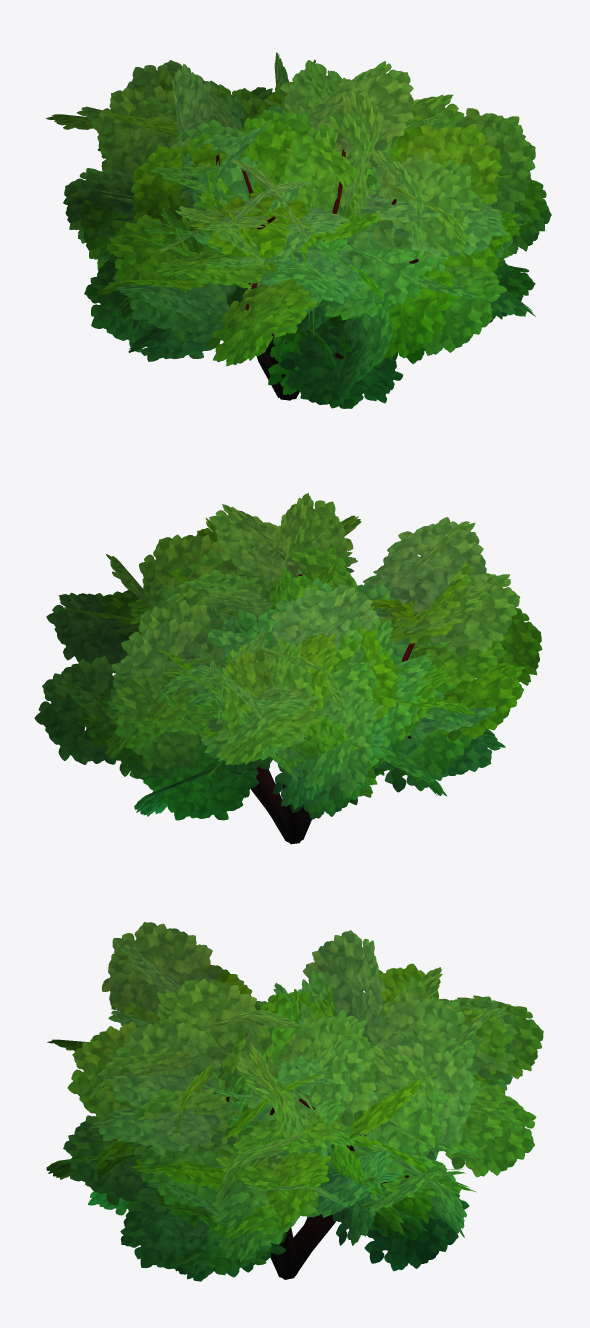
Rendered from SM_Bush_LOD2.gltf.
The picture shows the model from 3 angles, top to bottom: view 1: azimuth 30°, elevation 25°; view 2: azimuth 150°, elevation 25°; view 3: azimuth 270°, elevation 25°; orthographic projection. The views are drawn at different scales.
Parts seen in each view (by area): view 1: SM_Bush_LOD2; view 2: SM_Bush_LOD2; view 3: SM_Bush_LOD2.
Part boxes in pixels (x1,y1,x2,y2): SM_Bush_LOD2: (46, 52, 551, 408); SM_Bush_LOD2: (34, 493, 542, 844); SM_Bush_LOD2: (46, 922, 543, 1281).
Size of the model in its own units: 1.96 by 1.3 by 1.88.
Materials: 2 (2 with a texture image).
